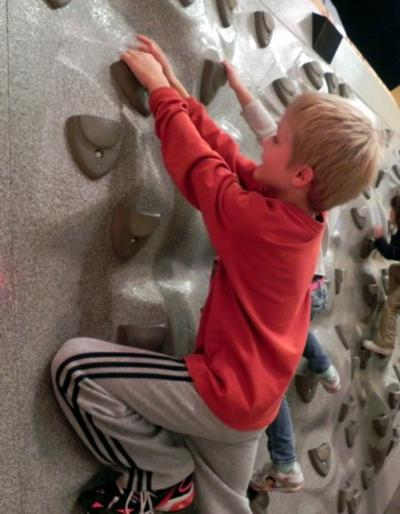person: (50, 33, 381, 514)
